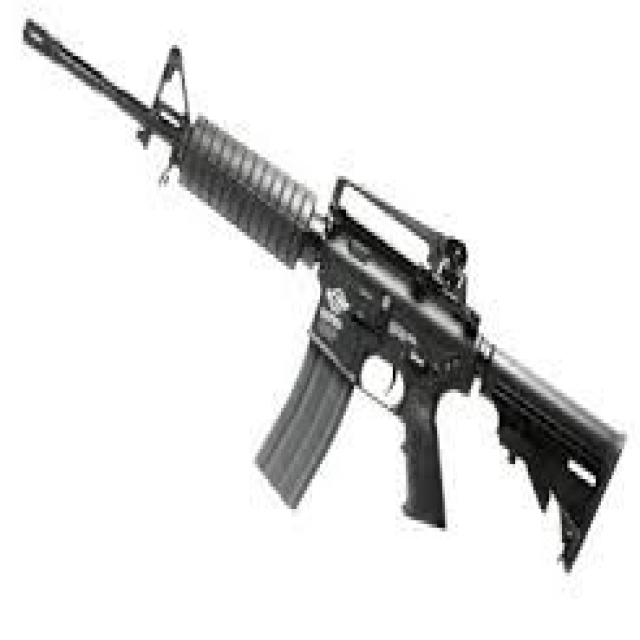rifle: (17, 14, 629, 576)
